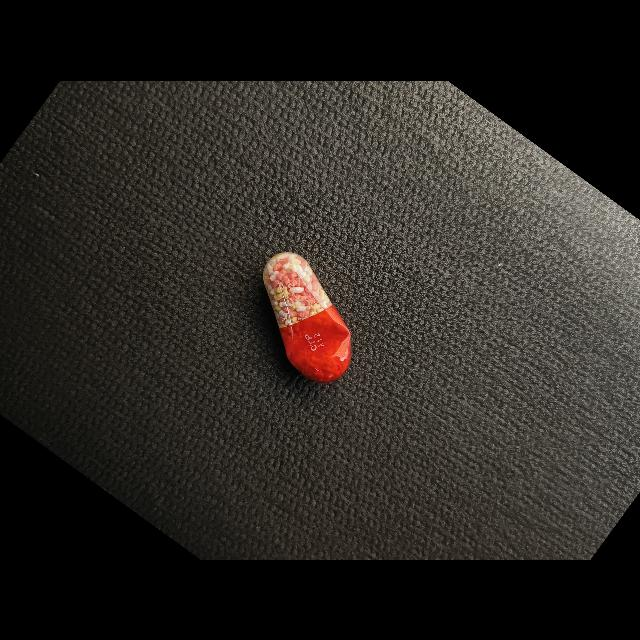Defective Capsule: (263, 252, 351, 382)
